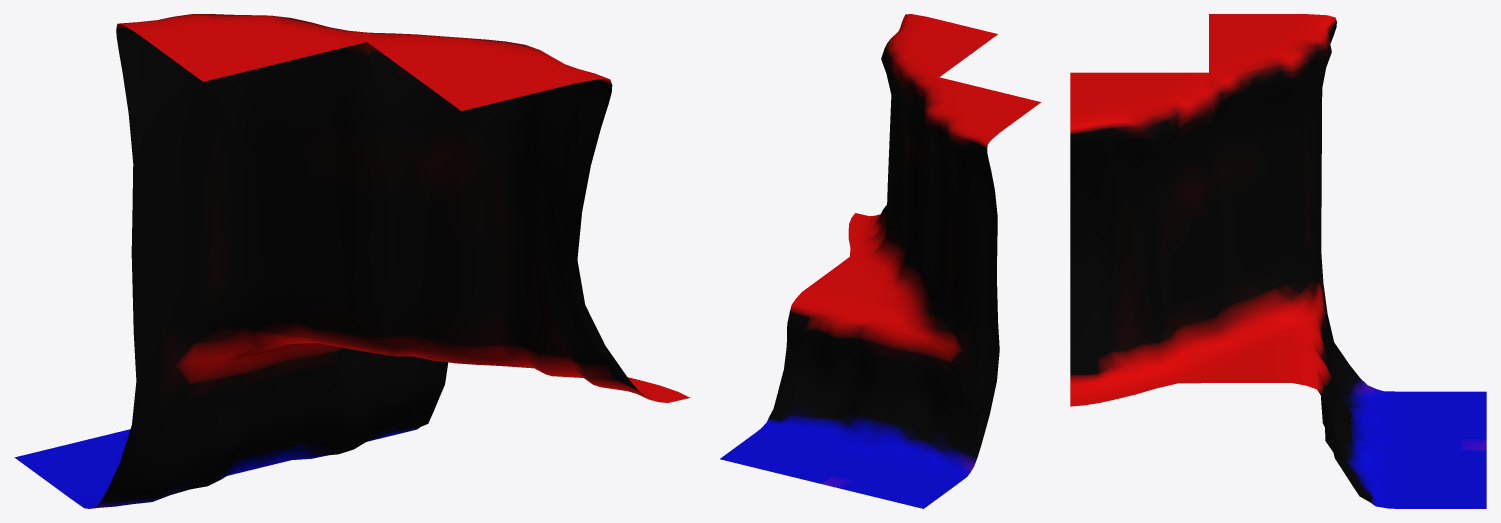
The model's file is RiveCliffToCliff 1x3x2 Foreground.fbx.
The picture shows the model from 3 angles, left to right: view 1: azimuth 30°, elevation 25°; view 2: azimuth 150°, elevation 25°; view 3: azimuth 270°, elevation 25°; orthographic projection. The views are drawn at different scales.
Parts seen in each view (by area): view 1: RiveCliffToCliff 1x3x2 Foreground; view 2: RiveCliffToCliff 1x3x2 Foreground; view 3: RiveCliffToCliff 1x3x2 Foreground.
Boxes of the visible parts, box(x1,y1,x2,y2) form: RiveCliffToCliff 1x3x2 Foreground: box(14, 14, 690, 508); RiveCliffToCliff 1x3x2 Foreground: box(720, 14, 1040, 508); RiveCliffToCliff 1x3x2 Foreground: box(1070, 14, 1486, 508).
Bounding box in the file's own units: 2.4 × 3 × 3.
